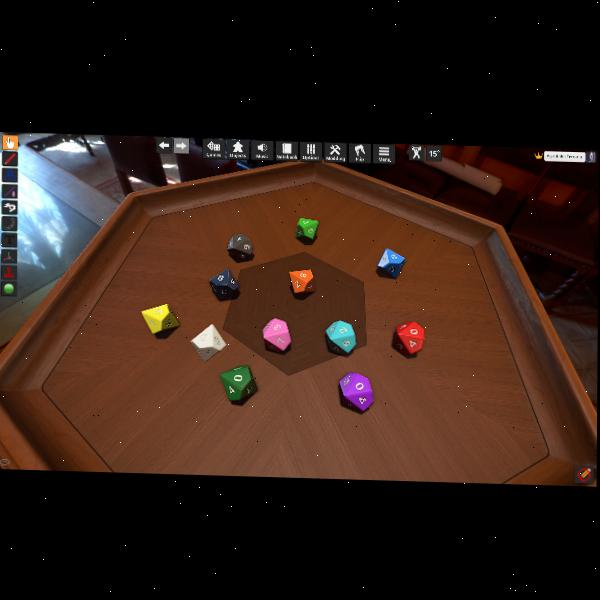d10: (189, 322, 224, 362), (220, 364, 256, 402), (338, 372, 372, 412), (142, 304, 180, 335), (392, 320, 423, 355), (263, 317, 292, 352), (325, 319, 354, 354), (208, 268, 238, 301), (376, 247, 403, 278), (227, 232, 254, 262), (289, 268, 313, 294), (295, 217, 317, 241)
